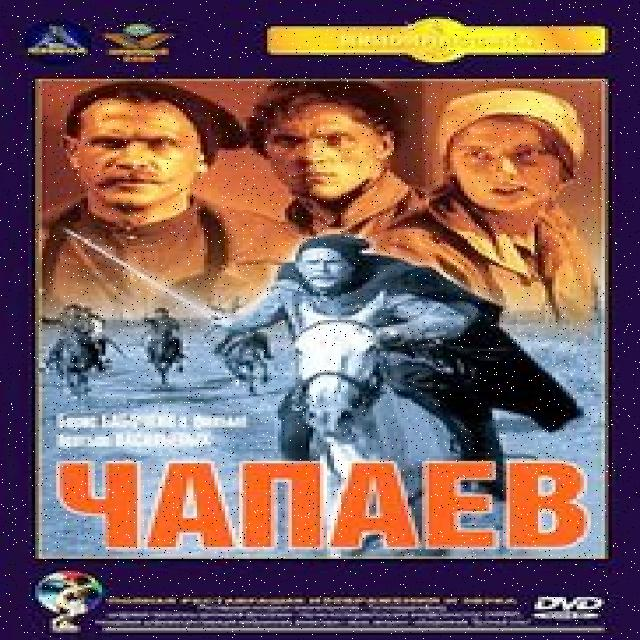movie-judul: (47, 452, 602, 557)
picture: (36, 77, 599, 440)
